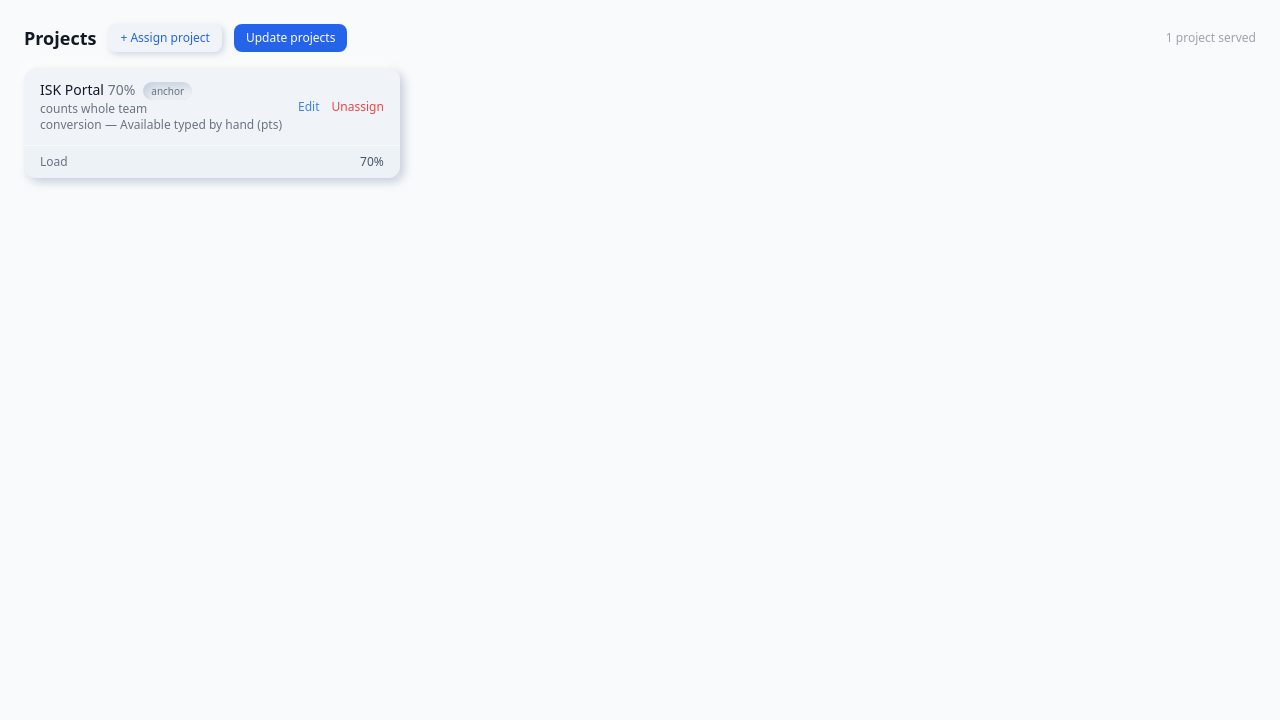
Test: TeamProjectsView › offers the push, which is the only way the number reaches a project
Click the button "Update projects" at (291, 38), box [234, 24, 347, 52]
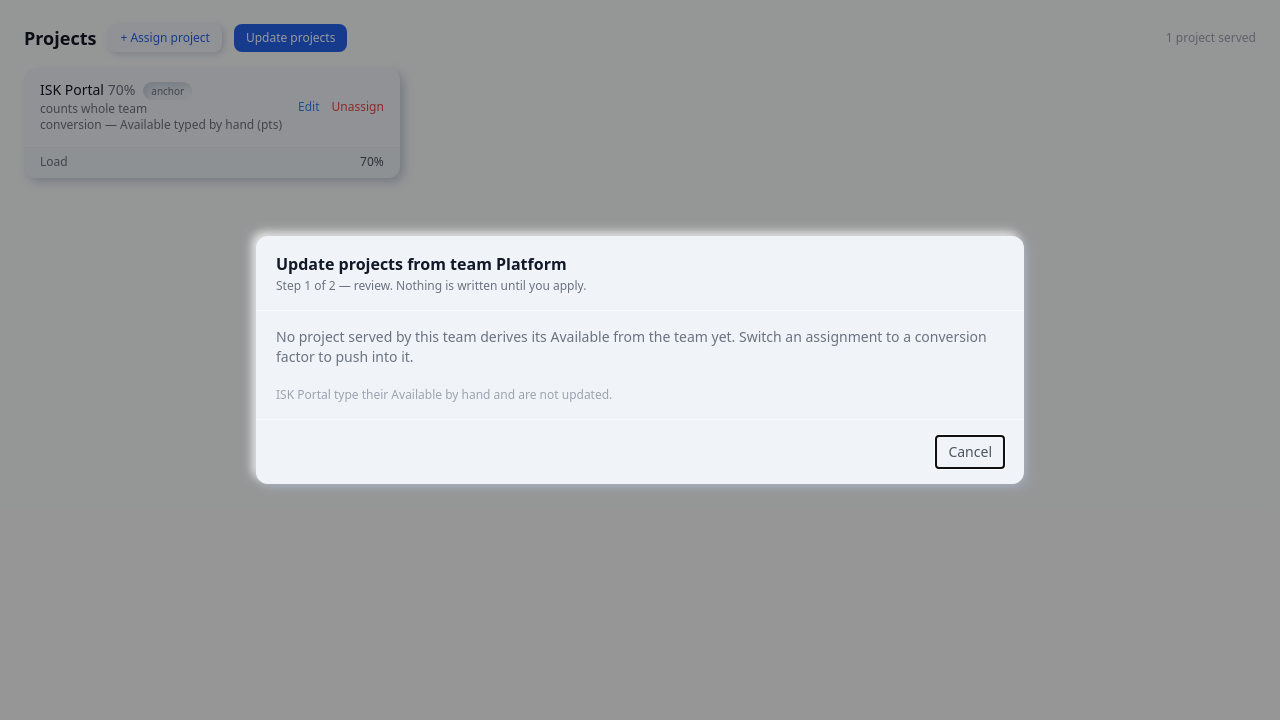
Check: the heading "Update projects from team Platform" is shown, box [276, 253, 567, 275]
Check: the text "Step 1 of 2 — review. Nothing is written until you apply." is shown, box [276, 277, 586, 294]
